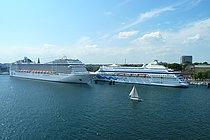Ship: (93, 59, 197, 93), (8, 53, 102, 87)
